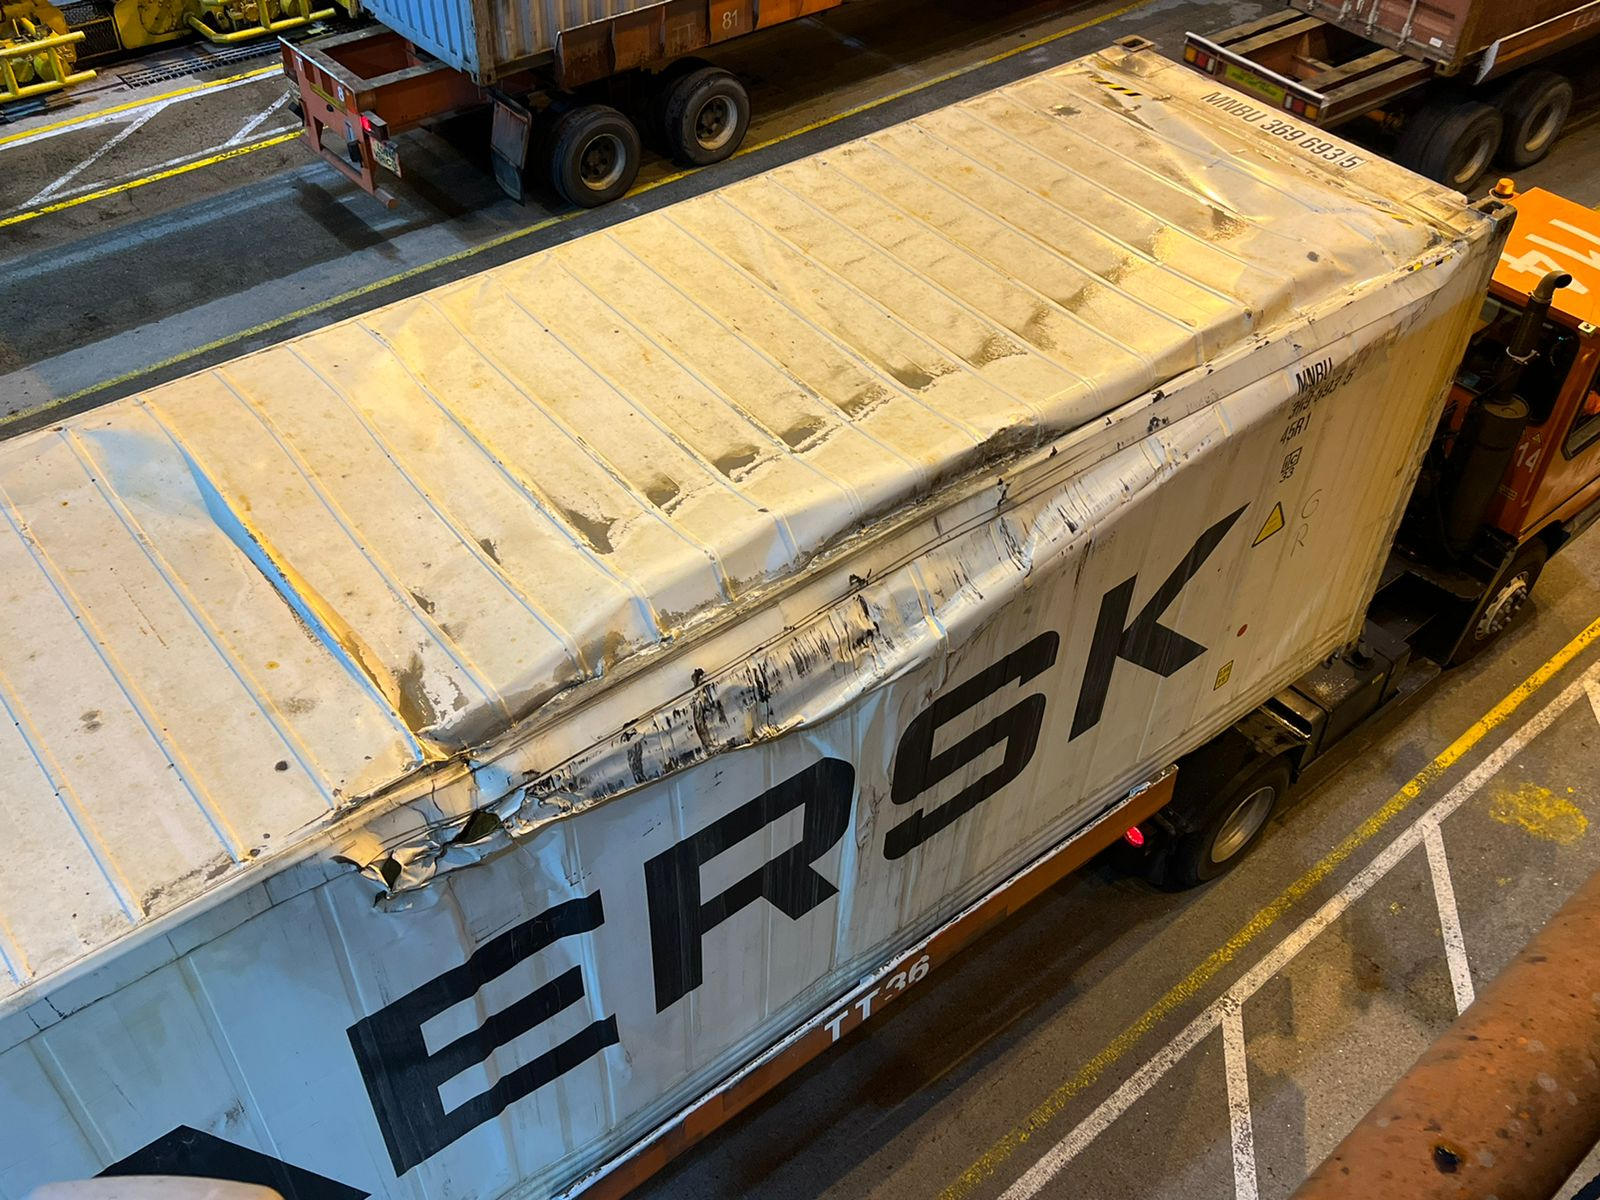bulged: (271, 429, 1261, 758), (1199, 189, 1436, 323)
